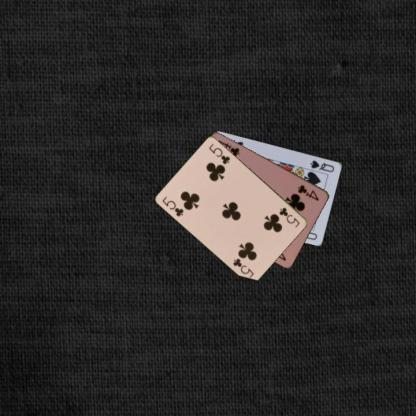4c: (295, 182, 321, 202)
5c: (160, 193, 185, 218), (277, 204, 301, 229)
Qs: (308, 157, 336, 173)
